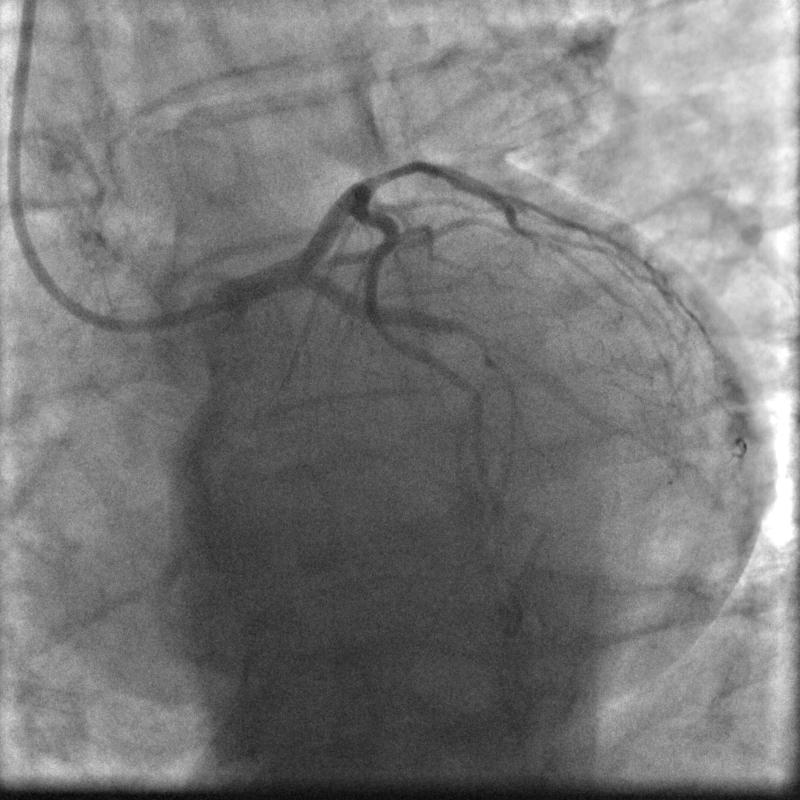Stenosis: (360, 151, 419, 191)
